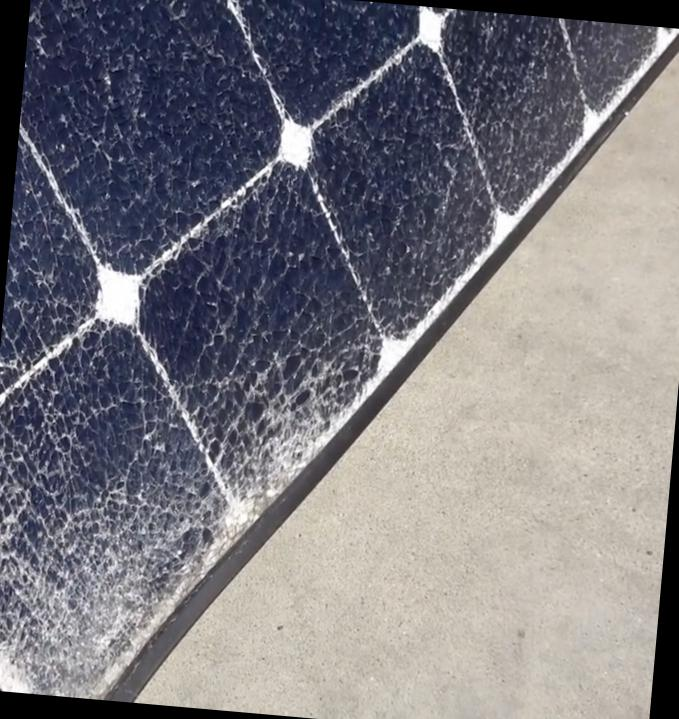Crack: (0, 405, 220, 702), (231, 340, 372, 508)
